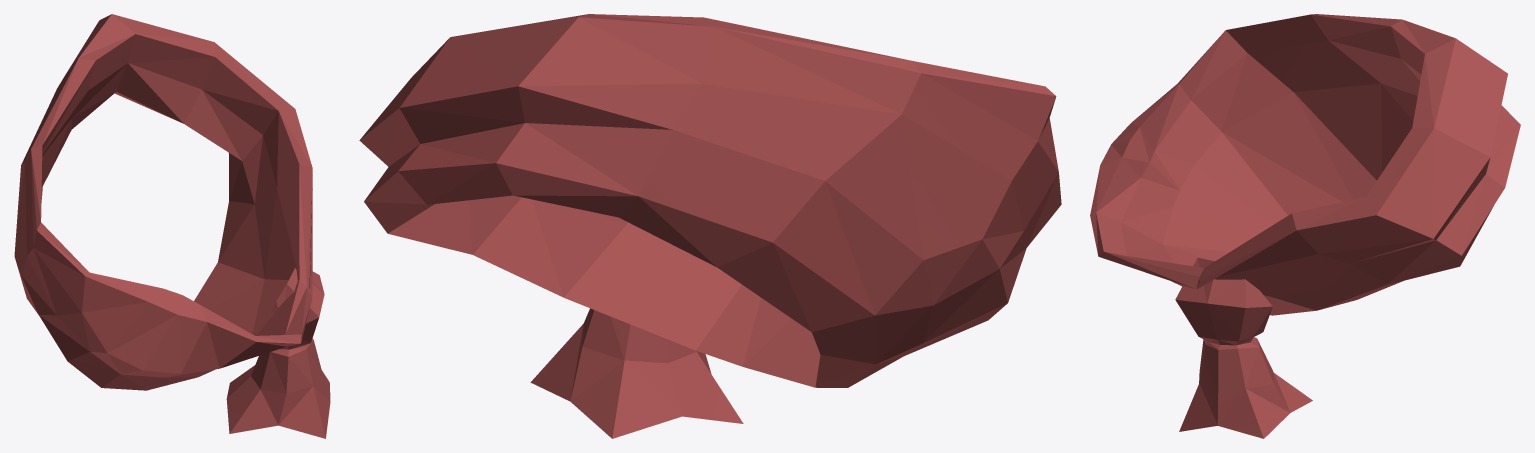
The model's file is amuletScarf1.fbx.
The picture shows the model from 3 angles, left to right: view 1: azimuth 30°, elevation 25°; view 2: azimuth 150°, elevation 25°; view 3: azimuth 270°, elevation 25°; orthographic projection. The views are drawn at different scales.
Visible parts, largest first — view 1: amuletScarf1; view 2: amuletScarf1; view 3: amuletScarf1.
Part boxes in pixels (bbox=[...]): amuletScarf1: bbox=[14, 14, 330, 438]; amuletScarf1: bbox=[359, 14, 1061, 438]; amuletScarf1: bbox=[1090, 14, 1520, 438].
Bounding box in the file's own units: 1.51 × 1.47 × 1.62.
1 material, 1 textured.
